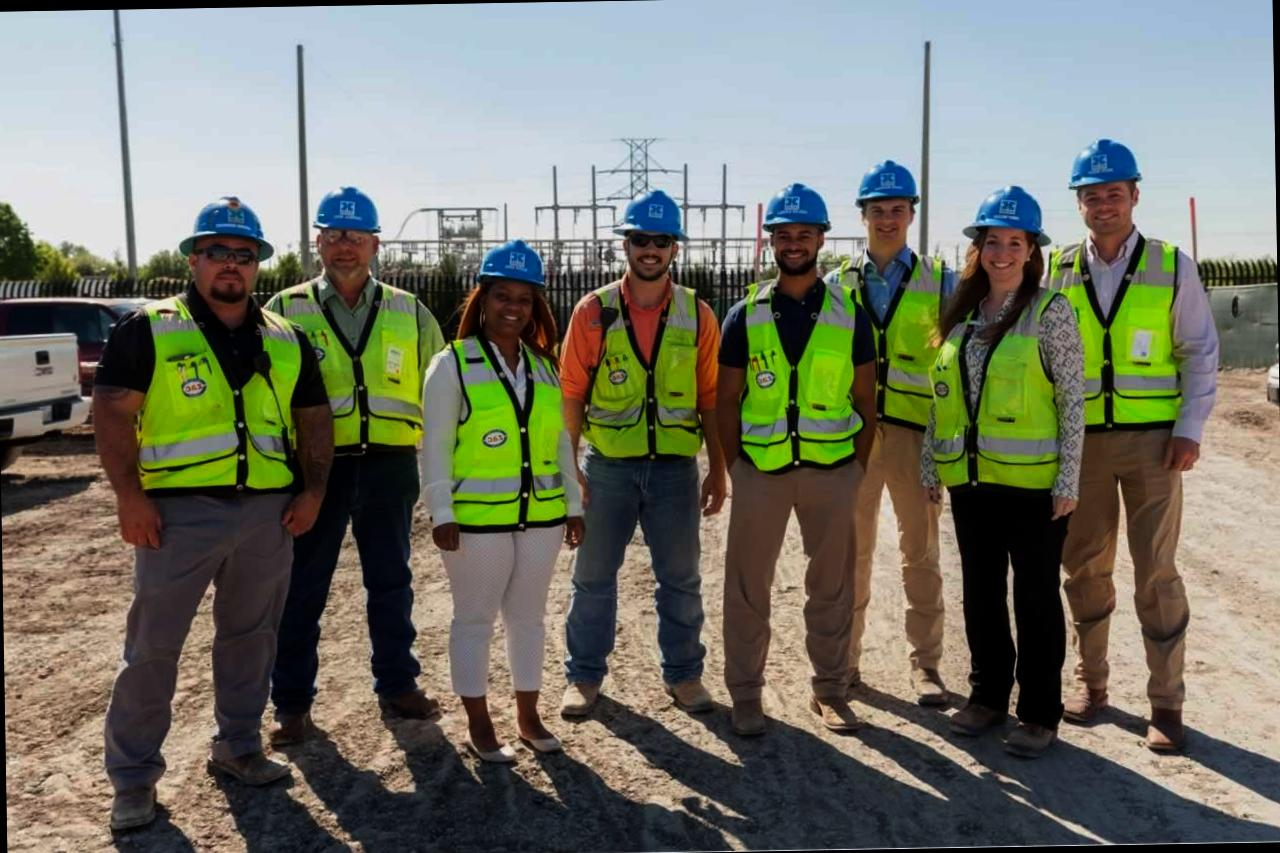helmet: (174, 194, 286, 270), (961, 182, 1058, 260), (610, 184, 694, 258), (844, 154, 932, 224), (302, 188, 396, 253), (751, 176, 835, 247), (467, 240, 555, 303), (1067, 132, 1148, 196)
person: (99, 188, 299, 836), (921, 174, 1091, 762), (272, 188, 448, 738), (549, 198, 727, 714), (1041, 135, 1179, 731), (710, 178, 850, 730), (445, 239, 575, 766)
